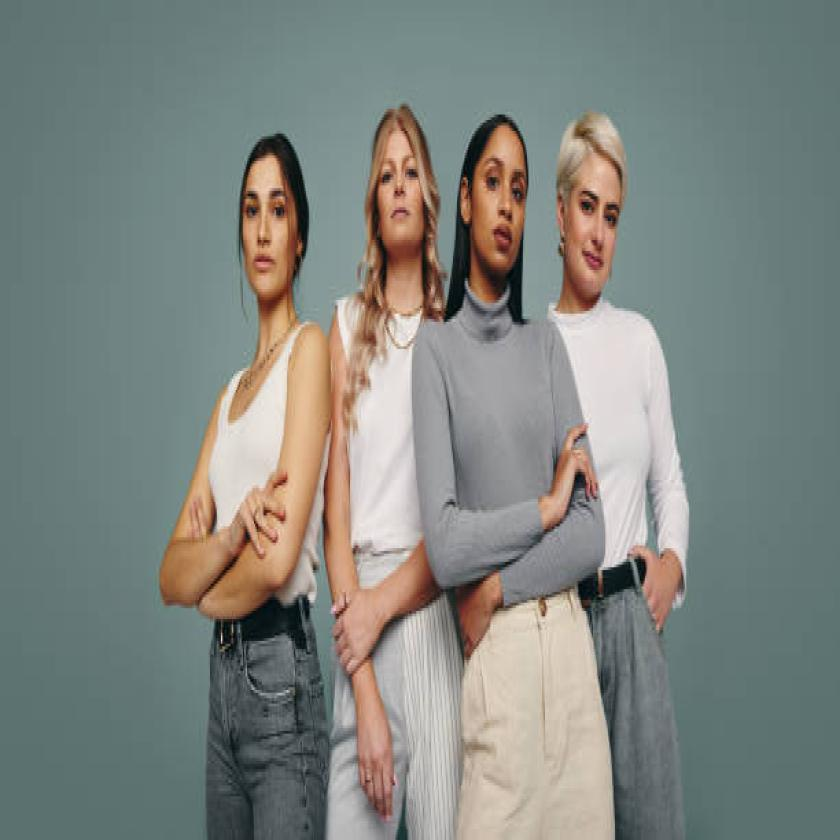Sin_casco: (222, 91, 321, 338), (453, 75, 535, 321), (364, 50, 437, 300), (550, 106, 634, 314)
